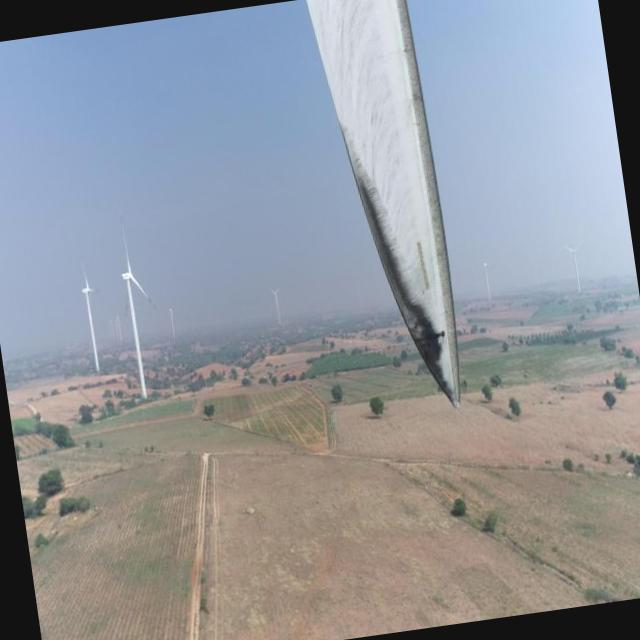Dirt: (303, 0, 460, 398)
Oil LEAKAGE: (355, 180, 455, 405)
Pin Hole: (437, 328, 445, 343)
